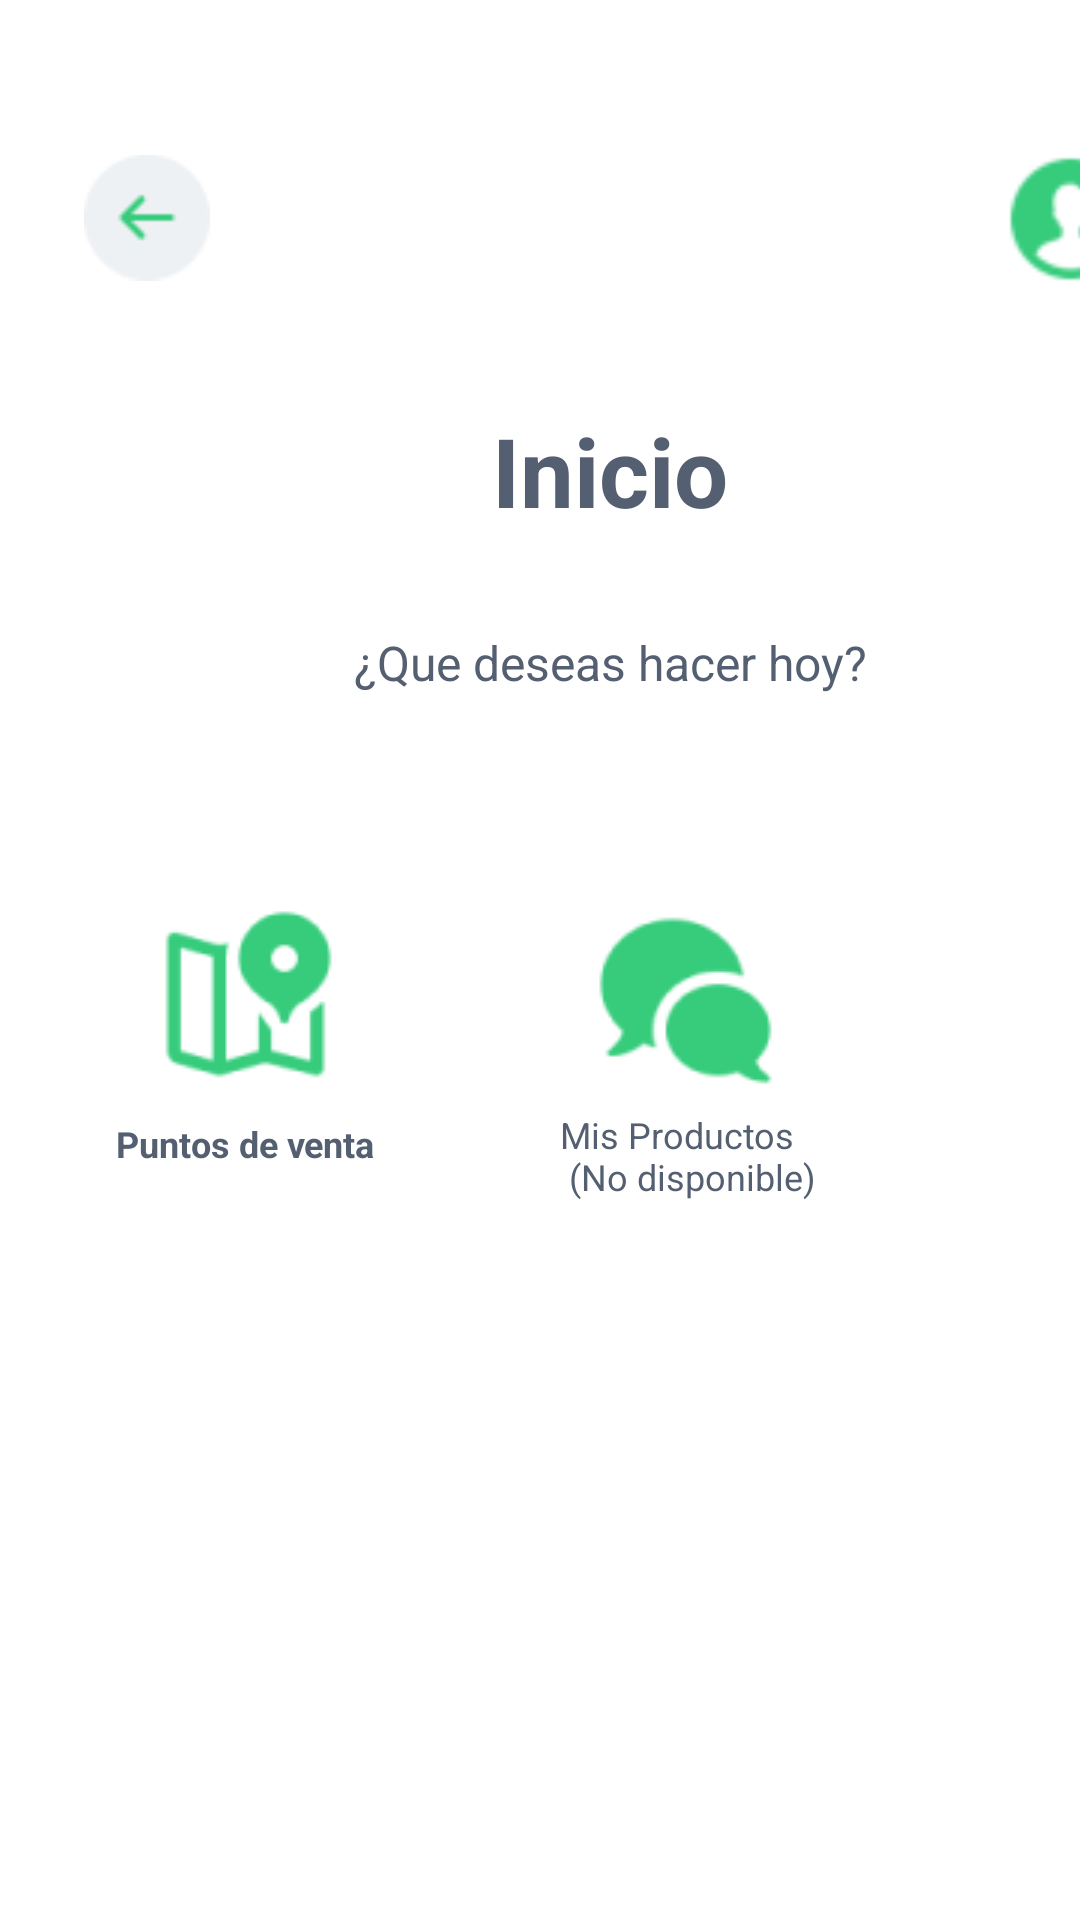

Locate icon controls on the screen. Image size 1080x1920, boxes as BBox(x1, y1, x2, y2).
chat: BBox(599, 917, 772, 1084)
mapa: BBox(165, 911, 332, 1078)
Regresar: BBox(84, 155, 210, 281)
